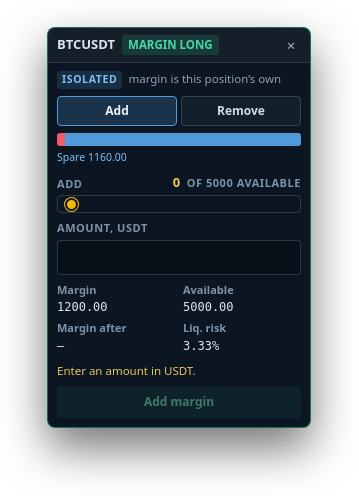
Test case: FuturesPositionMarginEditor › falls back to the spare margin when no liquidation price is reported
Type "250" into the field named "Margin amount in USDT".
click(179, 257); type("250")  # box [57,240,301,274]
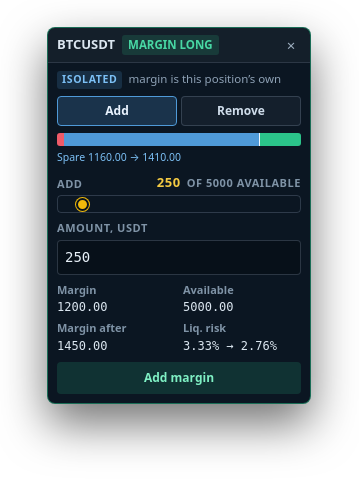
Check: the form named "Adjust BTCUSDT LONG position margin" does not show "Liq. price", box [47,27,311,404]
Check: the form named "Adjust BTCUSDT LONG position margin" shows "Spare 1160.00 → 1410.00", box [47,27,311,404]
